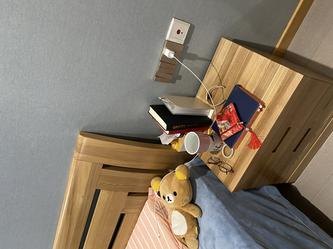switch: (157, 75, 174, 82), (160, 63, 175, 68), (161, 69, 176, 74)
